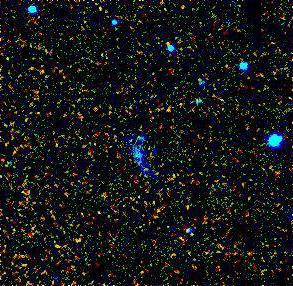star: (87, 0, 117, 22)
